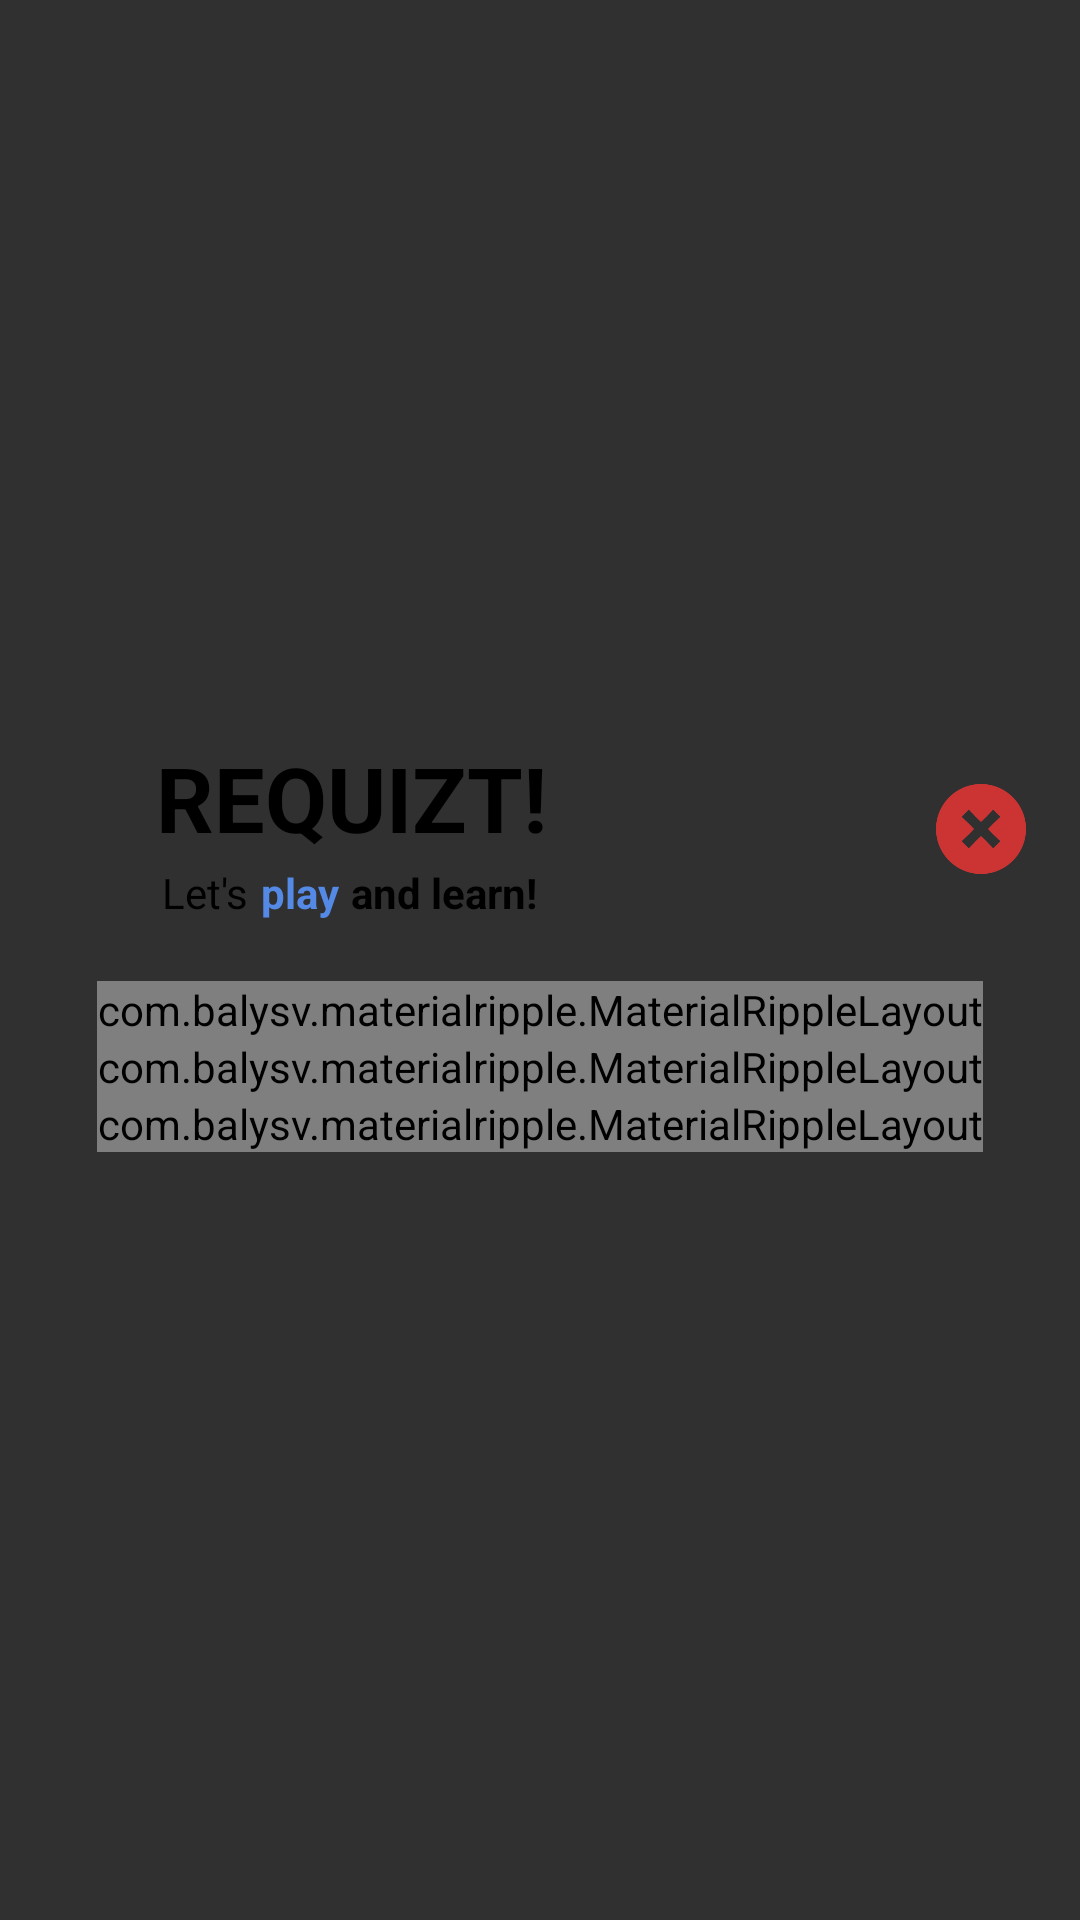

Screen size 1080px x 1920px. Icon name, then its center in pixels as point (x, y):
exit: point (981, 829)
